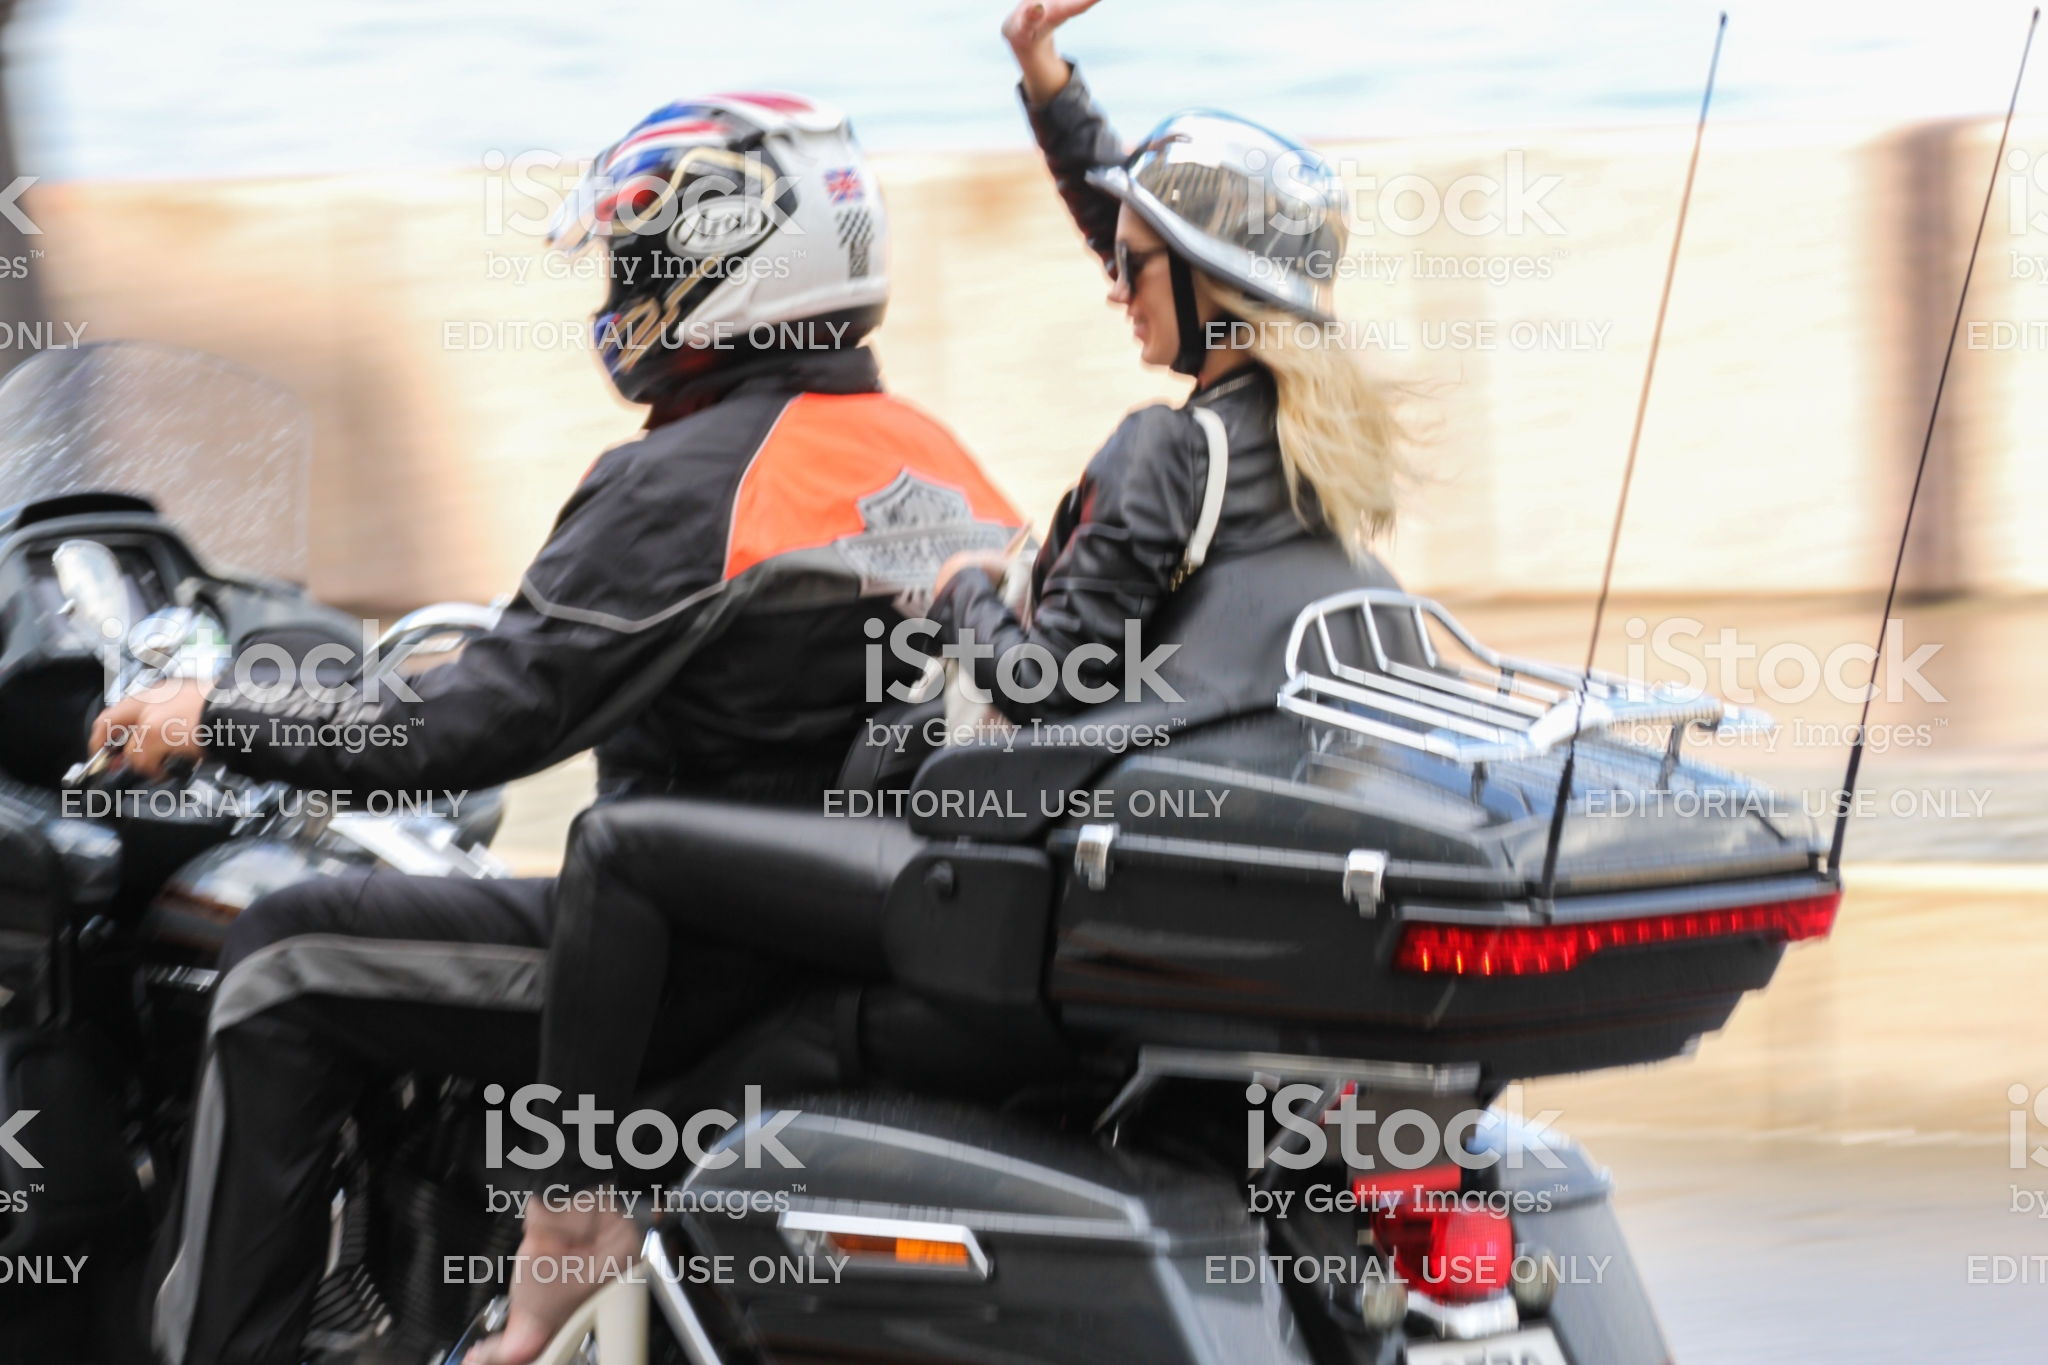helmet: (544, 104, 894, 340), (1112, 117, 1363, 302)
